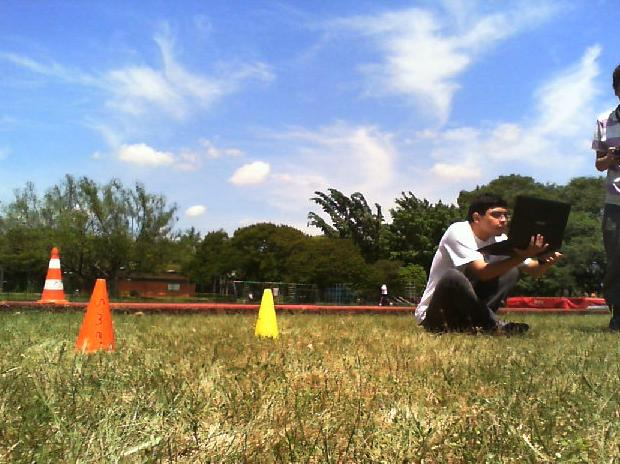0 cone: (76, 279, 115, 353), (37, 247, 67, 304), (255, 289, 279, 338)
